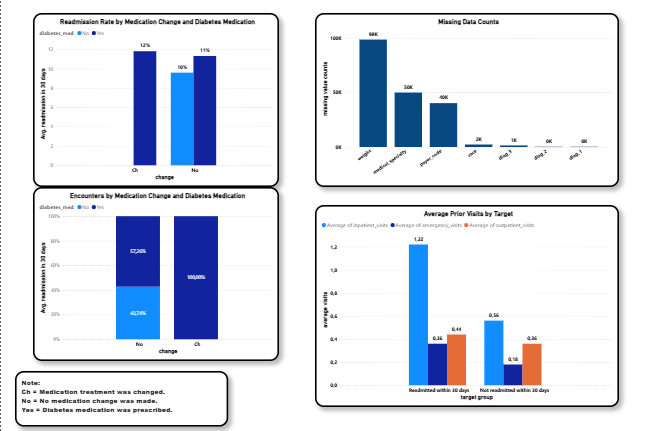

The dashboard page shown, as its layout file describes it:
{"tool":"powerbi","page":{"name":"Medication & ML Readiness","canvas":[1980,1080],"ordinal":2},"visuals":[{"type":"clusteredColumnChart","title":"Readmission Rate by Medication Change and Diabetes Medication","fields":{"Category":["public vw_readmission_by_medication_status.change"],"Y":["Avg(public vw_readmission_by_medication_status.readmission_30_day_rate)"],"Series":["public vw_readmission_by_medication_status.diabetes_med"]},"box":[80,32.5,615,435],"z":0},{"type":"hundredPercentStackedColumnChart","title":"Encounters by Medication Change and Diabetes Medication","fields":{"Category":["public vw_readmission_by_medication_status.change"],"Series":["public vw_readmission_by_medication_status.diabetes_med"],"Y":["Sum(public vw_readmission_by_medication_status.encounters)"]},"box":[80,467.5,615,435],"z":1},{"type":"textbox","box":[33.8,927.5,532.5,138.8],"z":2},{"type":"clusteredColumnChart","title":"Missing Data Counts","fields":{"Category":["public vw_missing_values_summary.column_name"],"Y":["Sum(public vw_missing_values_summary.missing_count)"]},"box":[785,32.5,760,435],"z":3},{"type":"clusteredColumnChart","title":"Average Prior Visits by Target","fields":{"Category":["public vw_ml_prior_visits_by_target.ml_target_group"],"Y":["Avg(public vw_ml_prior_visits_by_target.avg_inpatient_visits)","Avg(public vw_ml_prior_visits_by_target.avg_emergency_visits)","Avg(public vw_ml_prior_visits_by_target.avg_outpatient_visits)"]},"box":[785,512.5,760,505],"z":4}]}

Visuals, with their boxes on the page's 1980x1080 design canvas (x1, y1, x2, y2). These are canvas units, not pixel positions in the 658x431 screenshot, which may show the page scaled, cropped or inside an application window:
"Readmission Rate by Medication Change and Diabetes Medication" clusteredColumnChart: {"left": 80, "top": 32, "right": 695, "bottom": 468}
"Encounters by Medication Change and Diabetes Medication" hundredPercentStackedColumnChart: {"left": 80, "top": 468, "right": 695, "bottom": 902}
textbox: {"left": 34, "top": 928, "right": 566, "bottom": 1066}
"Missing Data Counts" clusteredColumnChart: {"left": 785, "top": 32, "right": 1545, "bottom": 468}
"Average Prior Visits by Target" clusteredColumnChart: {"left": 785, "top": 512, "right": 1545, "bottom": 1018}
